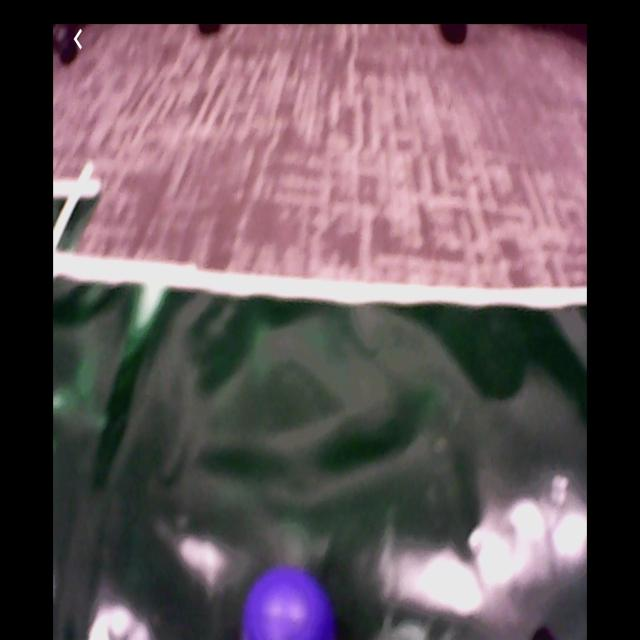ball: (243, 568, 336, 640)
